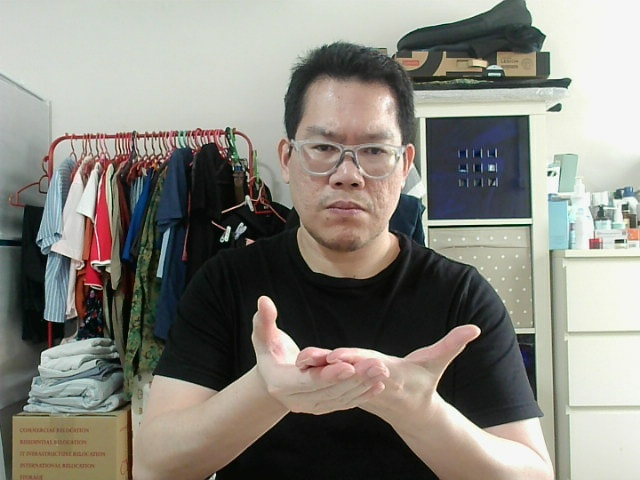good: (260, 309, 381, 407)
